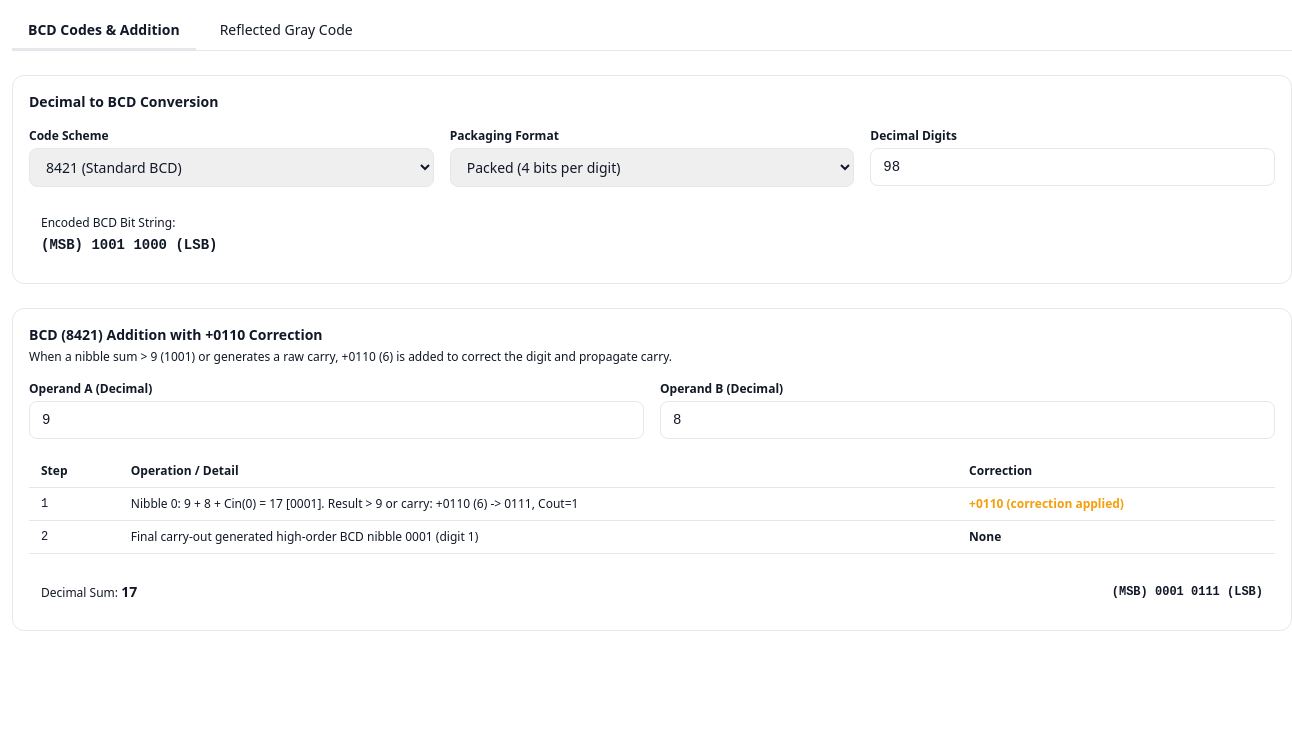
CodesPanel › switches to Reflected Gray Code tab and displays XOR steps
The width and height of the screenshot is (1292, 732).
Click the tab "Reflected Gray Code" at (286, 31), box [204, 12, 369, 50]
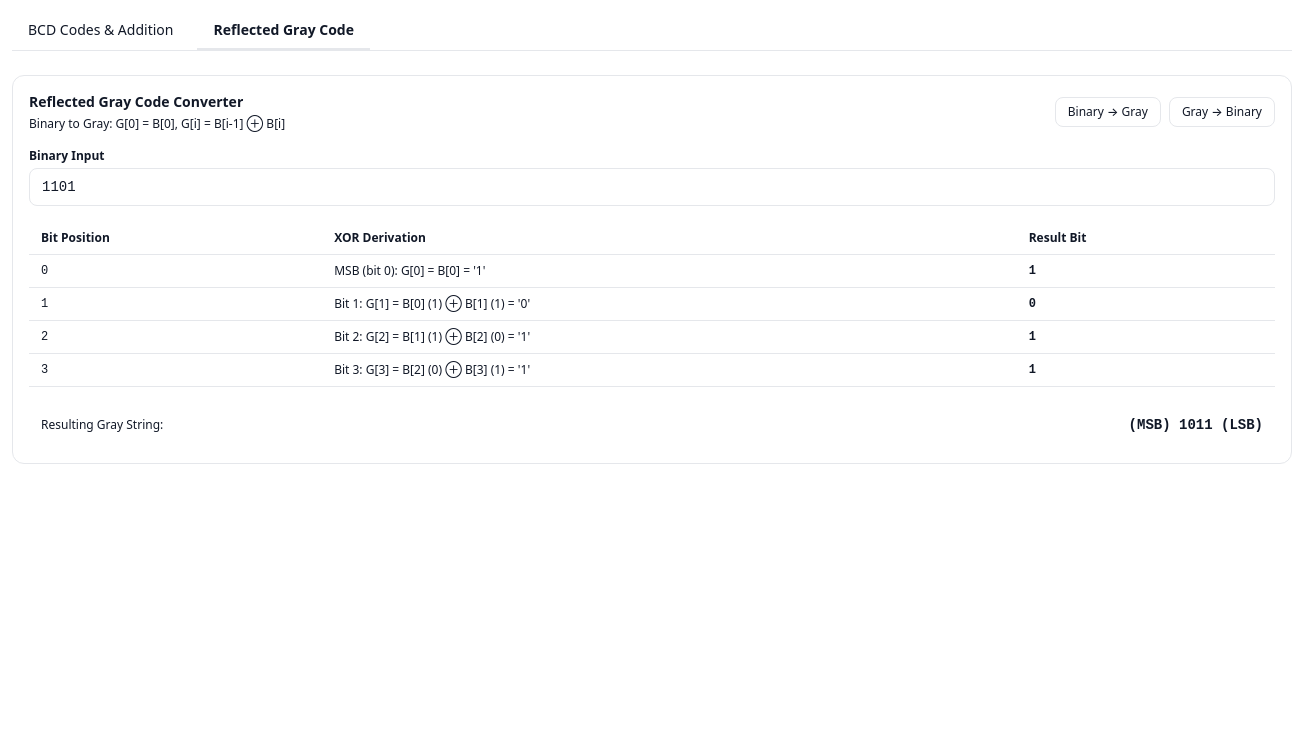
Expected: the heading "Reflected Gray Code Converter" is shown, [29, 92, 243, 111]
Expected: the field labelled "Binary Input" is shown, [29, 168, 1275, 206]
Expected: the column heading "XOR Derivation" is shown, [322, 222, 1017, 254]
